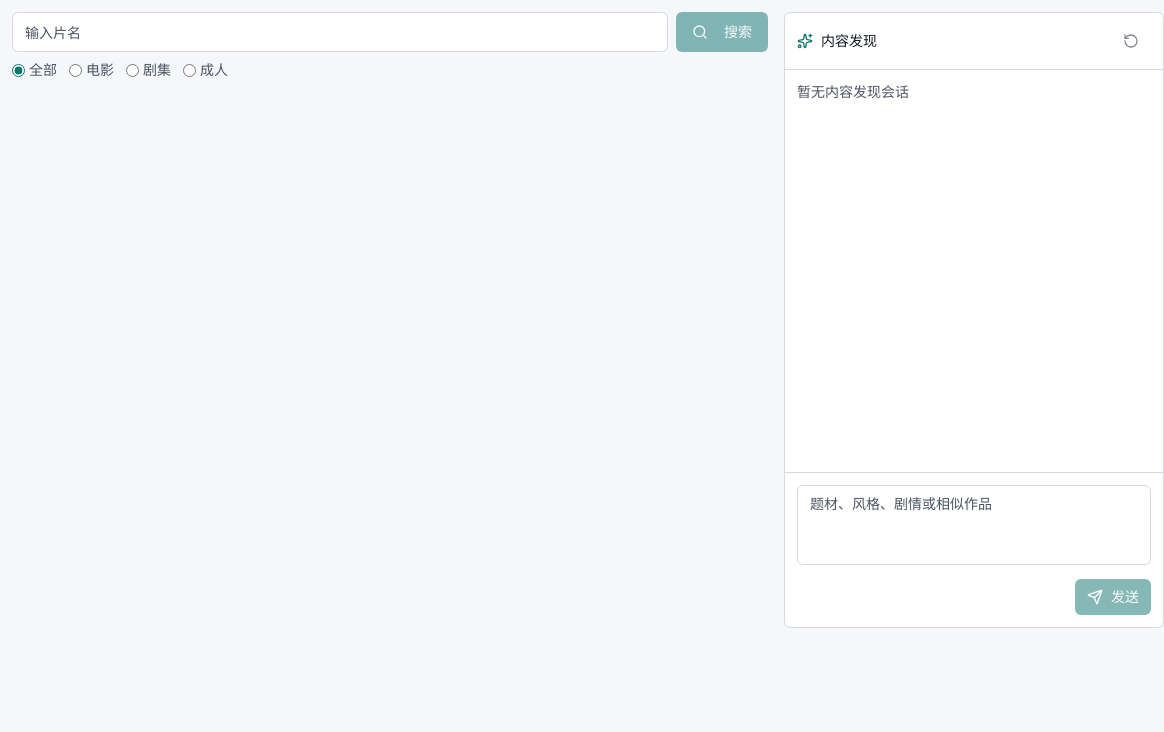
DiscoveryPage › does not render raw JSON in candidate cards
Type "clean" into the field with test id "discovery-search-input". click: point(340, 32)
box: top-left (12, 12), bottom-right (668, 52)
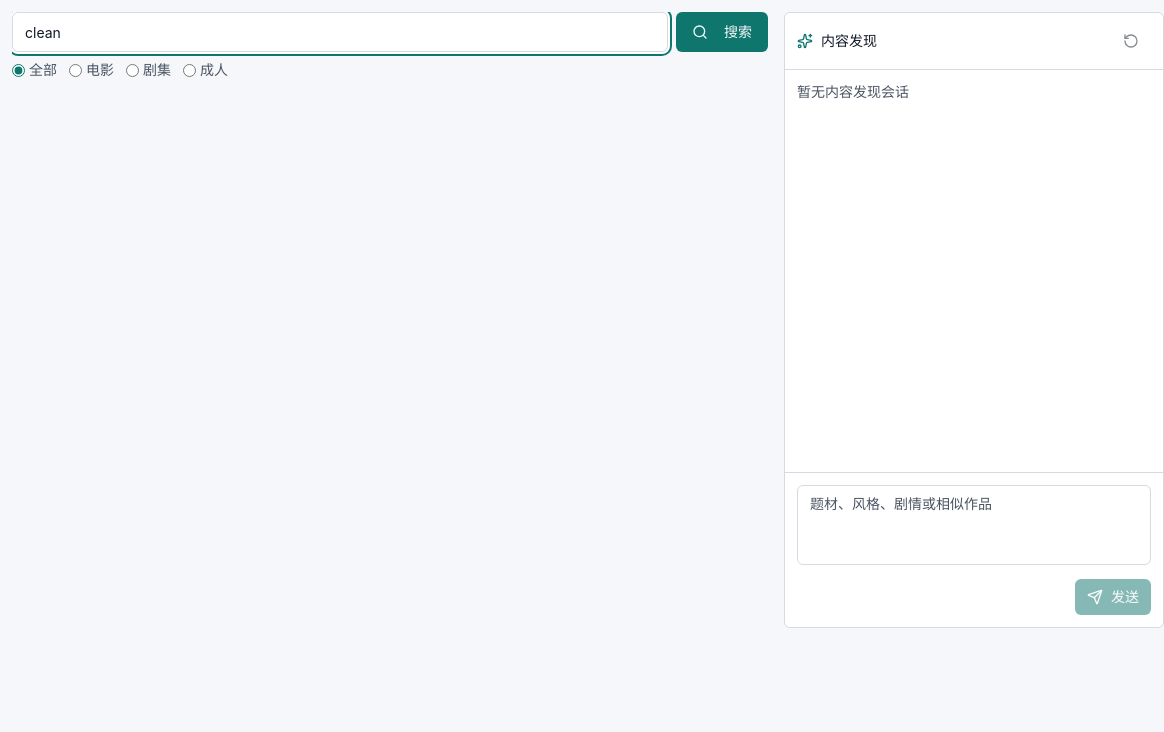
Click the button "搜索". click: point(722, 32)
box: top-left (676, 12), bottom-right (768, 52)
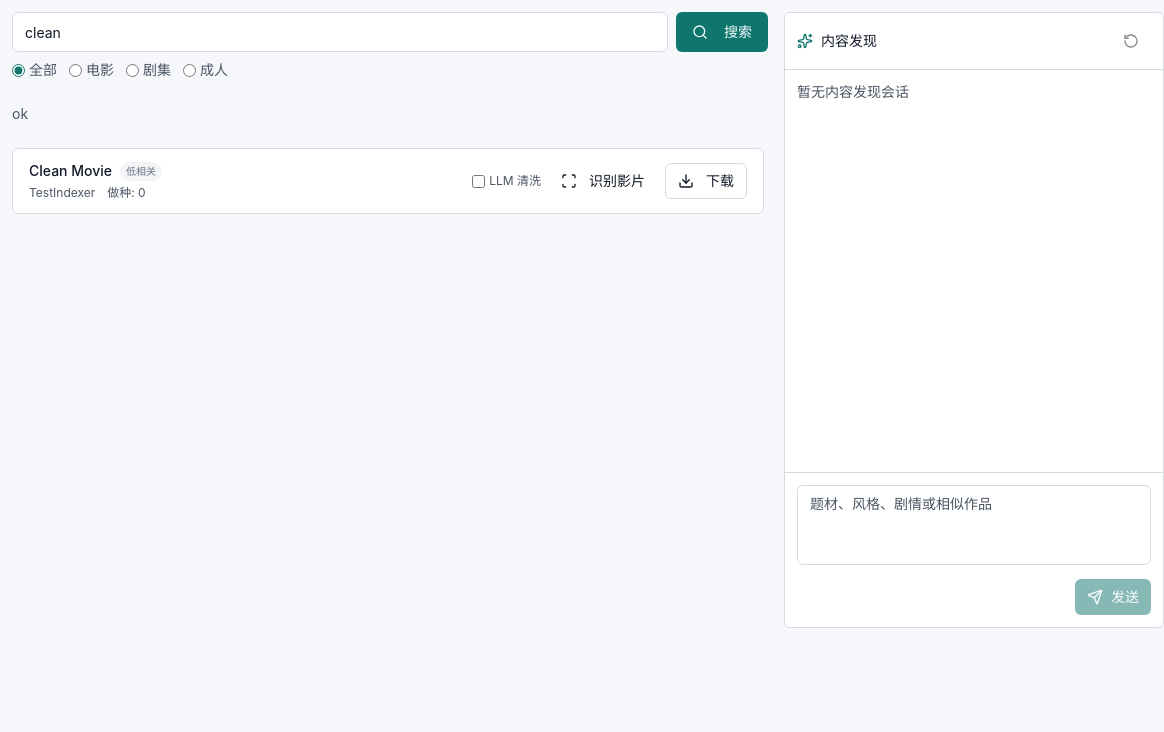
Check: the text "Clean Movie" is shown, box top-left (29, 161), bottom-right (112, 181)
